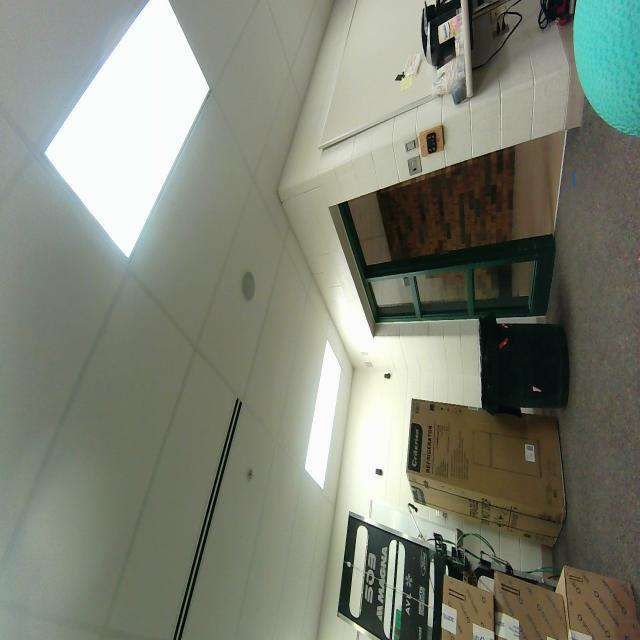algae: (571, 0, 640, 146)
